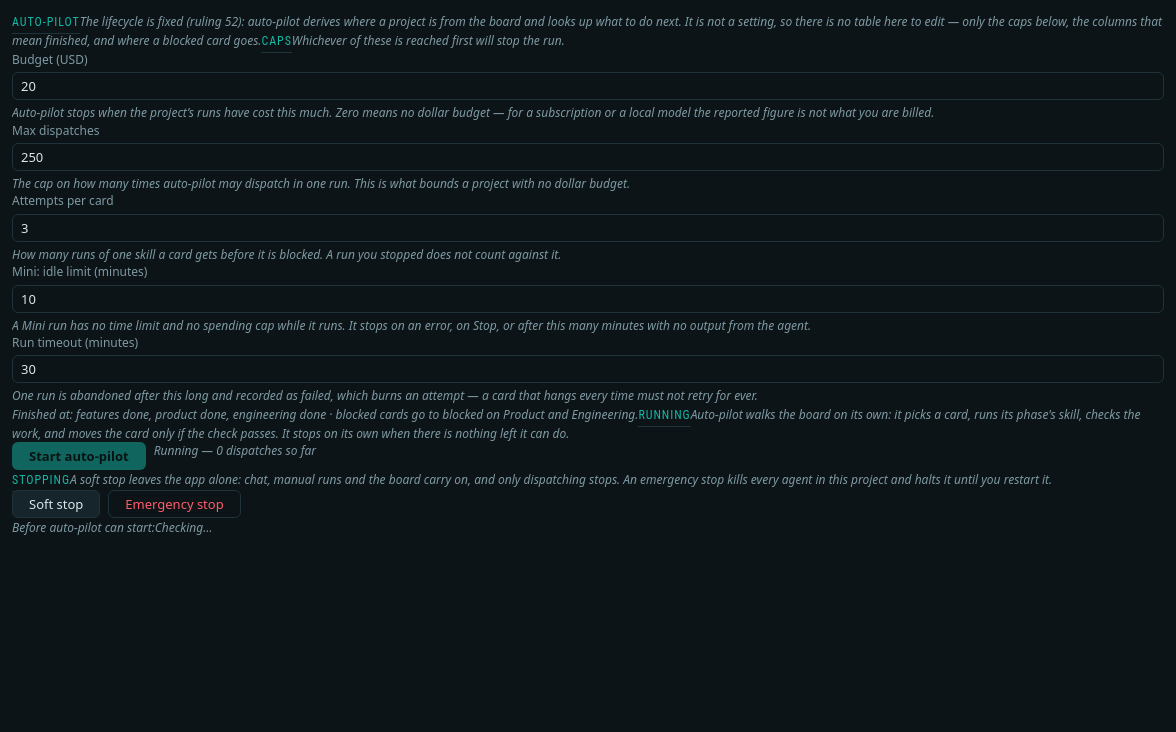
Test: the stop controls › shows a refusal rather than swallowing it
Click the button "Soft stop": coordinates (56, 504) [12,490,100,518]
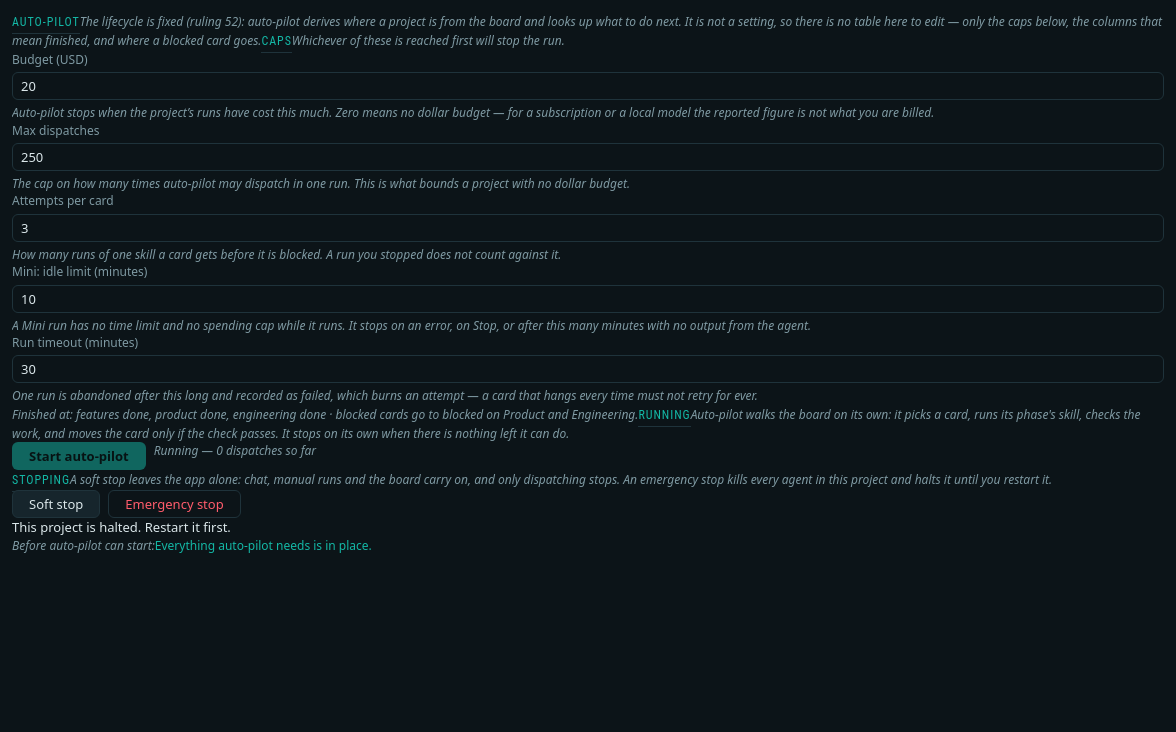
Result: the text "This project is halted. Restart it first." is shown at [12,518,231,536]
